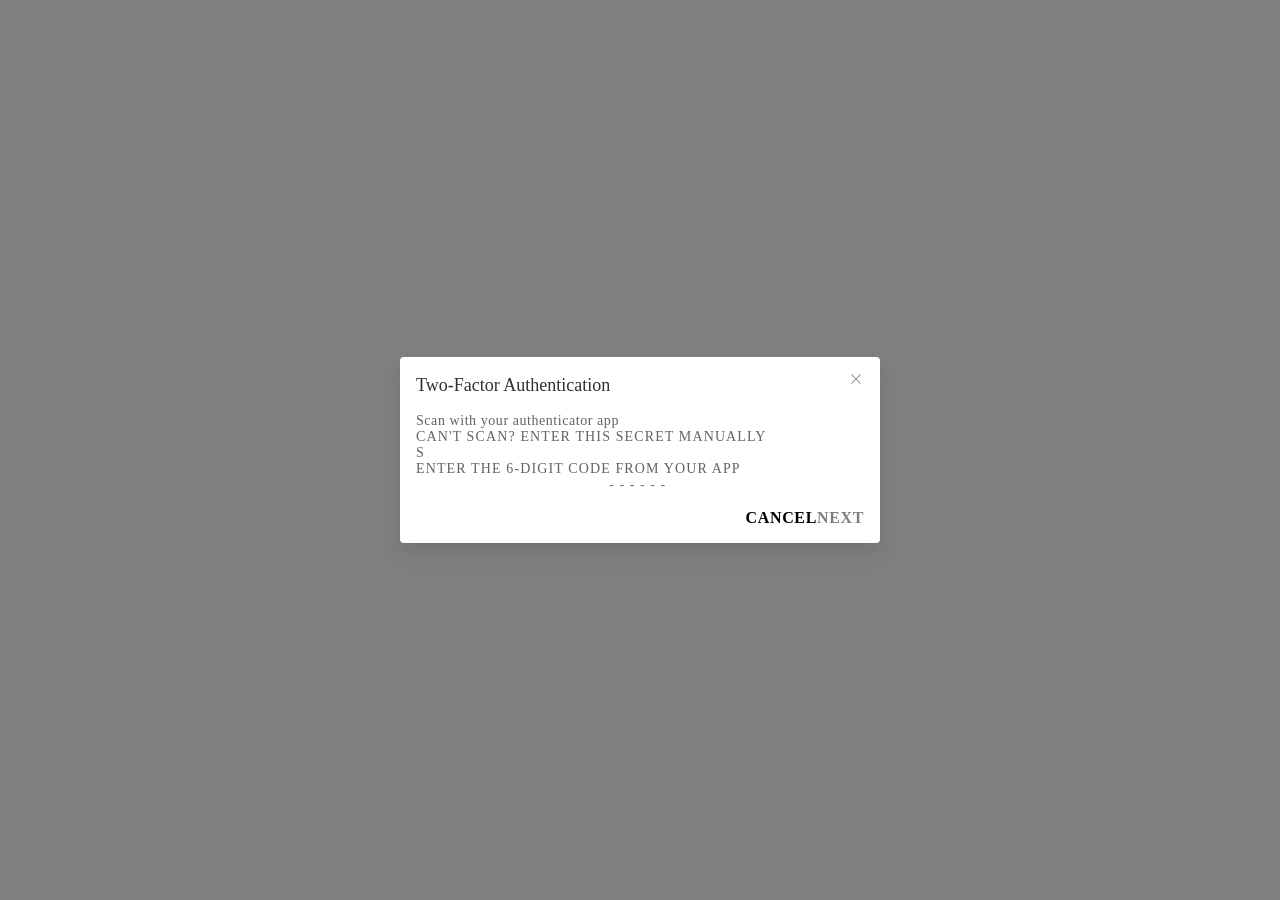
Scenario: MfaSetupDialog (PC, P6) › verifySetup happy → 切 step 2 显示 10 个 recovery codes
The width and height of the screenshot is (1280, 900).
Type "123456" into the field with test id "mfa-setup-code" at (640, 485), box [416,477,864,493]
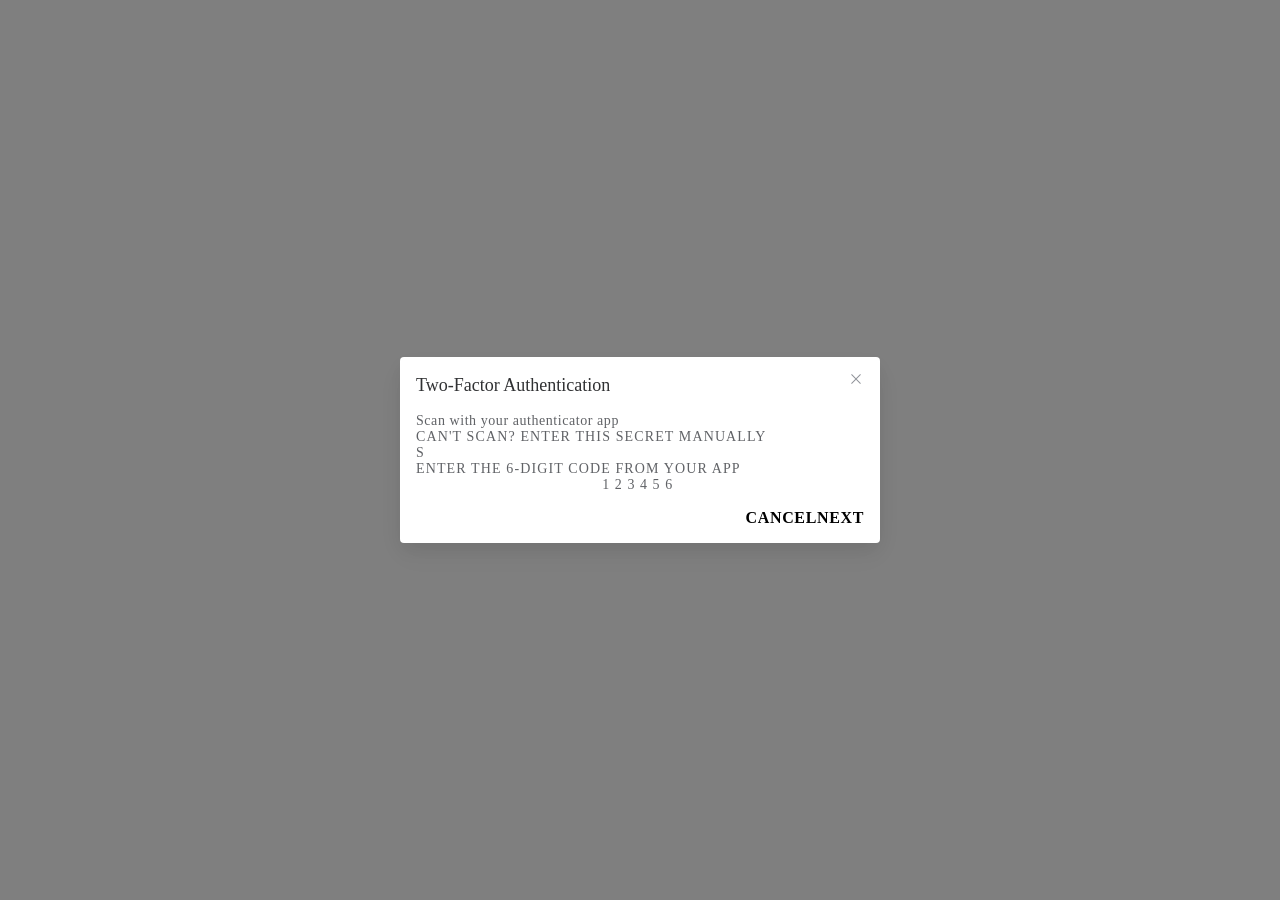
Click the button with test id "mfa-setup-verify" at (840, 518), box [817,509,864,527]
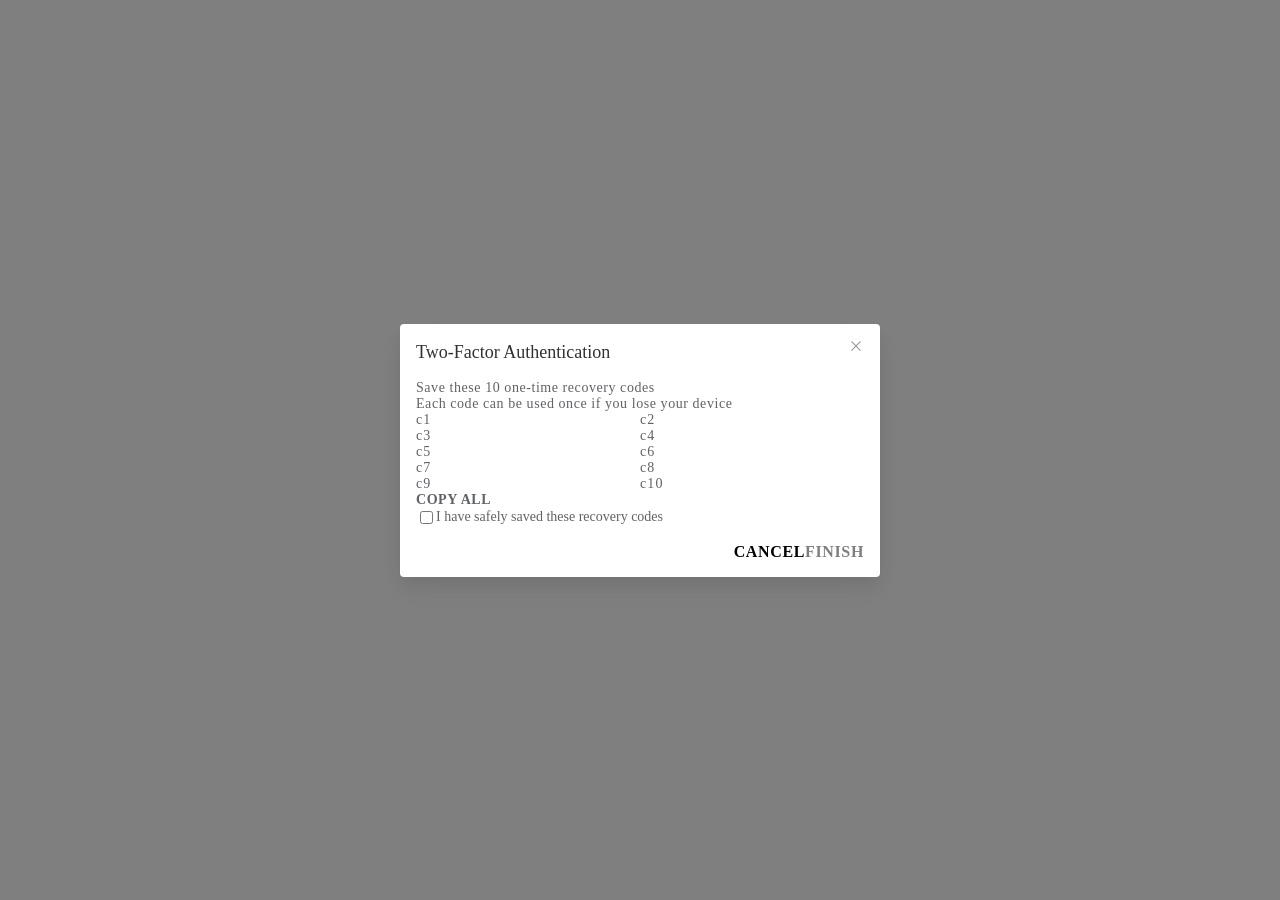
Expected: the text "c1" is shown, [416,412,432,426]
Expected: the text "c10" is shown, [640,476,664,490]
